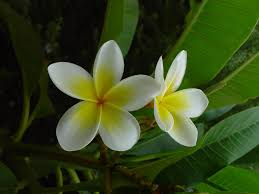frangipani: (47, 41, 166, 152)
